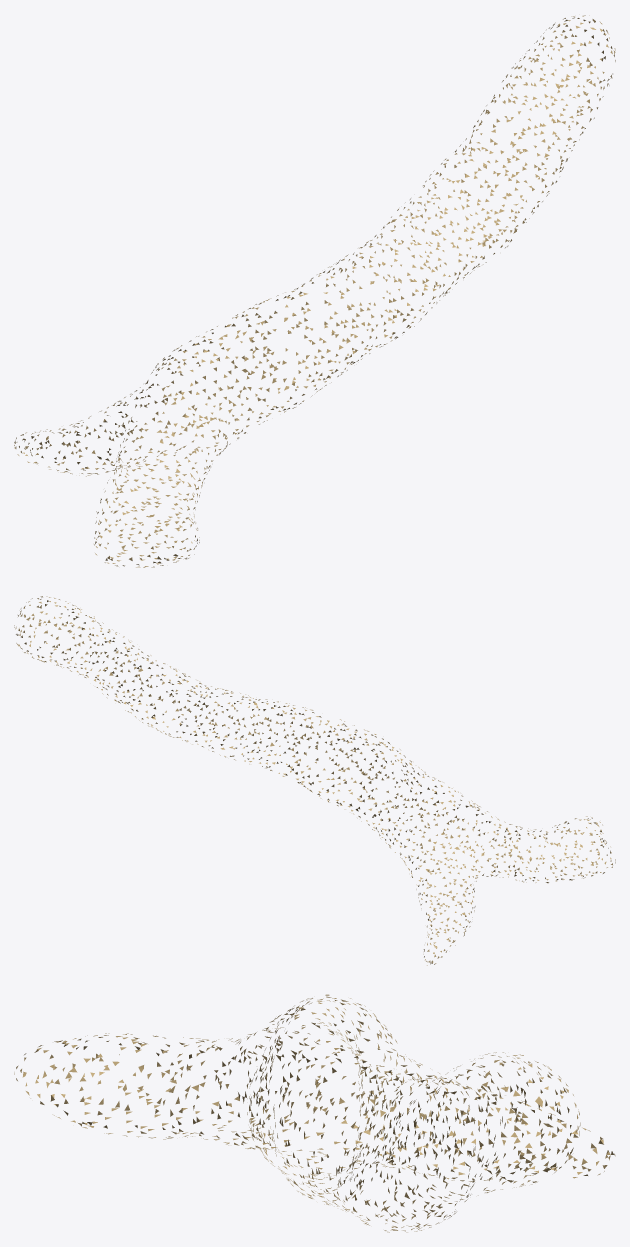
Rendered from morph_007.glb.
3 views of the same model, one above another, from view 1: azimuth 30°, elevation 25°; view 2: azimuth 150°, elevation 25°; view 3: azimuth 270°, elevation 25° (orthographic). The views are drawn at different scales.
Size of the model in its own units: 118 by 58.33 by 62.93.
